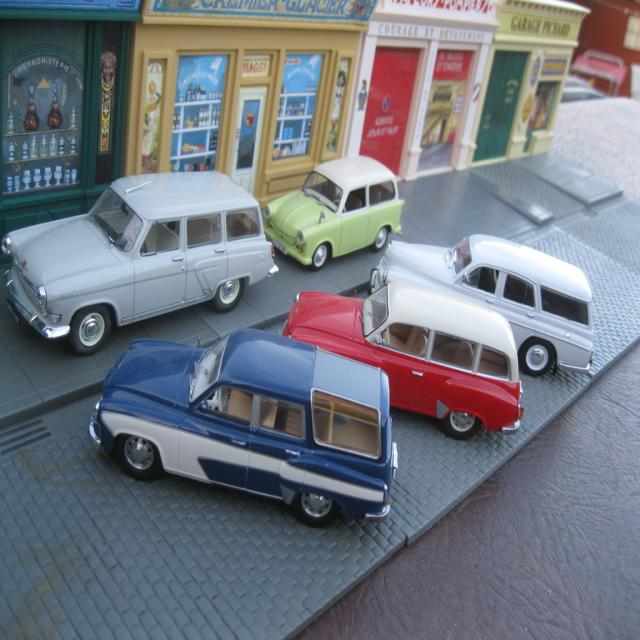car: (82, 328, 399, 533), (261, 150, 408, 269)
